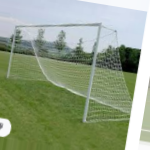goals: (6, 17, 131, 123)
